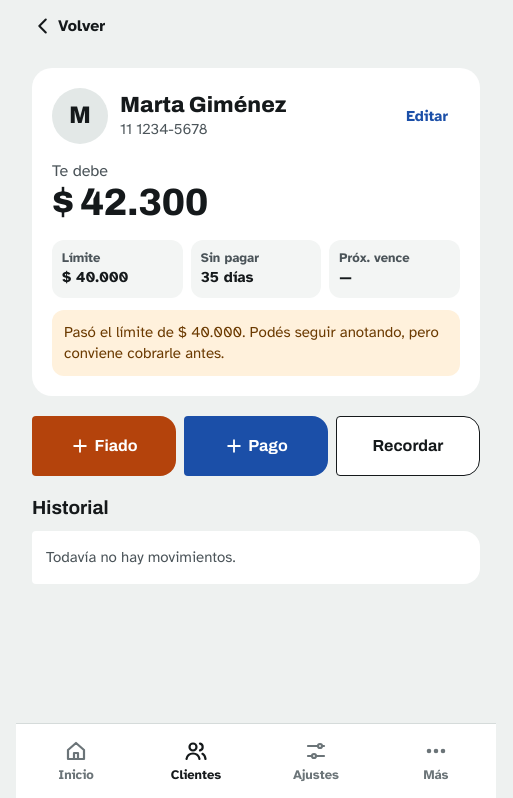
Test: Editar cliente › desde la ficha abre el formulario con los datos cargados
This screenshot has width=513, height=798.
Click the button "Editar".
click(427, 116)  # box [394,94,460,138]
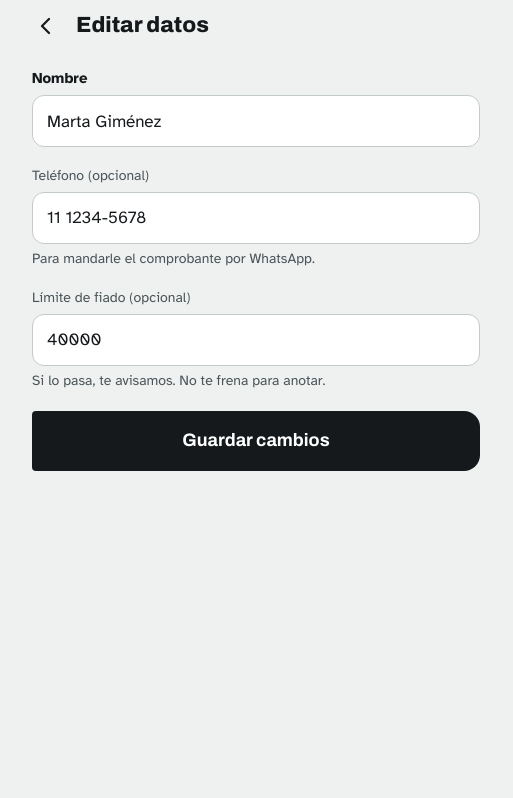
Check: the field labelled "Nombre" holds "Marta Giménez", box [32,95,480,147]
Check: the field labelled "Teléfono (opcional)" holds "11 1234-5678", box [32,192,480,244]
Check: the field labelled "Límite de fiado (opcional)" holds "40000", box [32,314,480,366]
